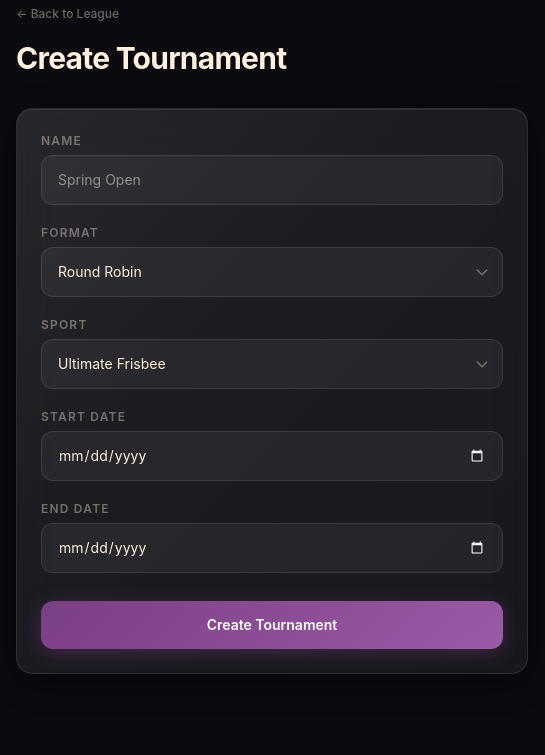
Test: CreateTournamentPage › shows error message on failure
Type "Bad" into the field labelled "Name".
click(272, 180); type("Bad")  # box left=41, top=155, right=503, bottom=205
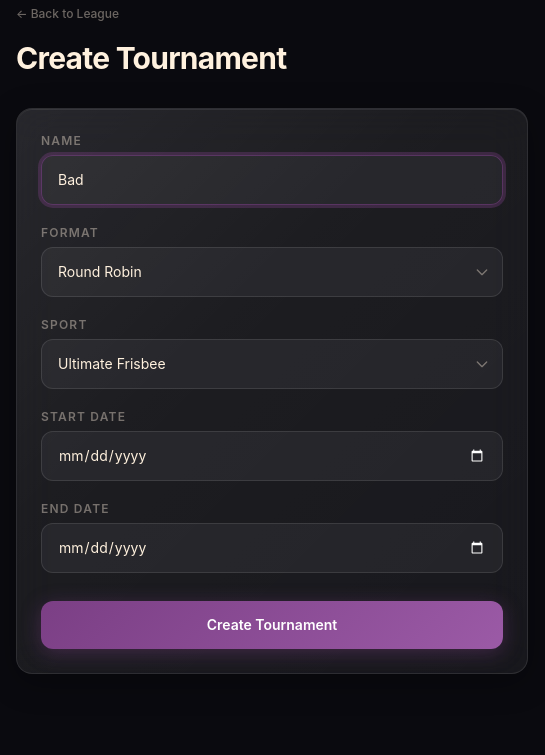
Select "Round Robin" in the dropdown labelled "Format" at [272, 272], box left=41, top=247, right=503, bottom=297
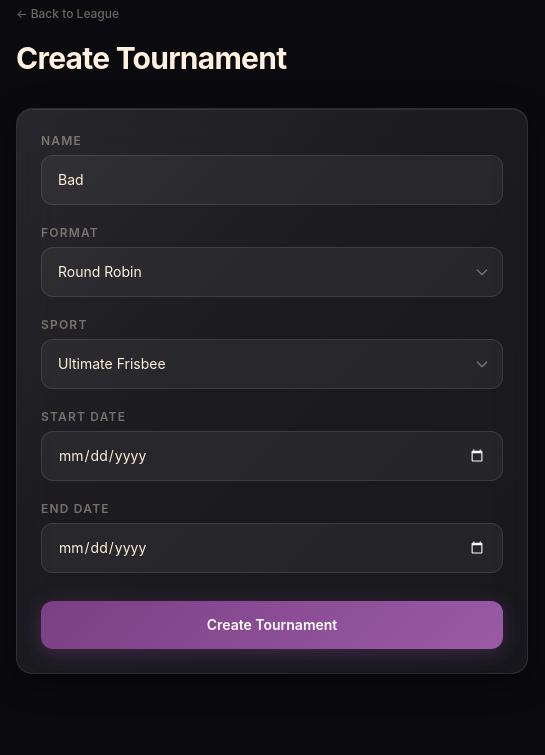
Select "Ultimate Frisbee" in the dropdown labelled "Sport" at [272, 364], box left=41, top=339, right=503, bottom=389
Type "2026-06-01" into the date field labelled "Start Date".
click(272, 456); type("2026-06-01")  # box left=41, top=431, right=503, bottom=481
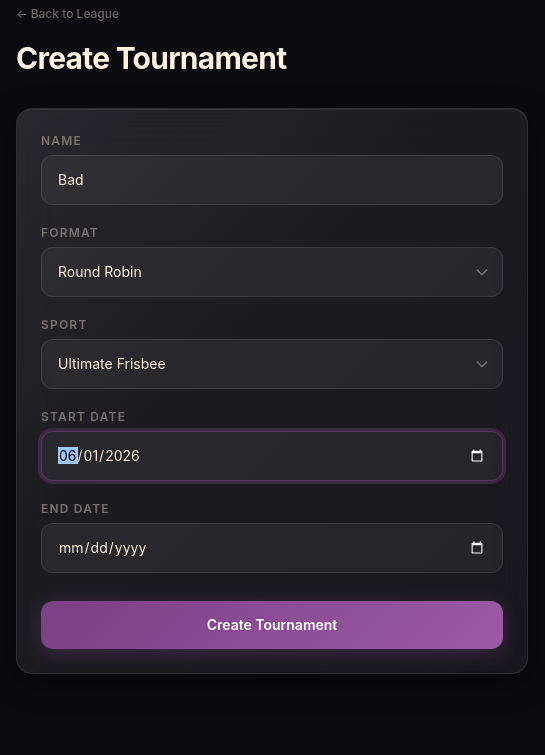
Type "2026-06-02" into the date field labelled "End Date".
click(272, 548); type("2026-06-02")  # box left=41, top=523, right=503, bottom=573
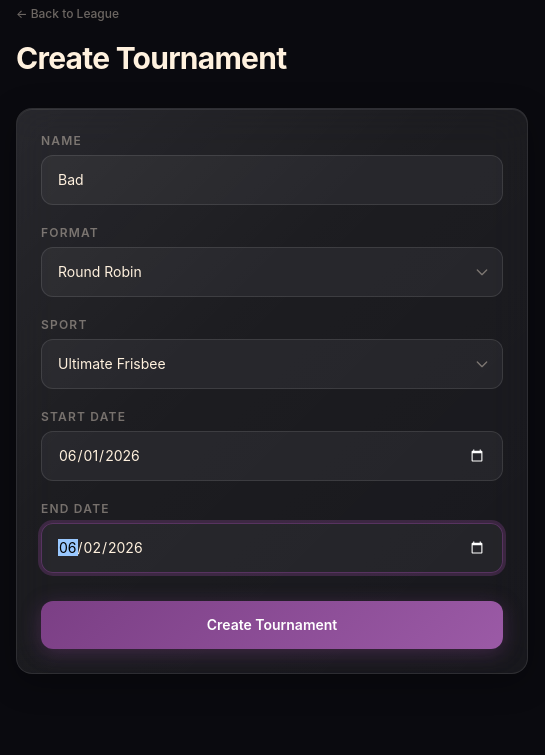
Click the button "Create Tournament".
click(272, 625)  # box left=41, top=601, right=503, bottom=649
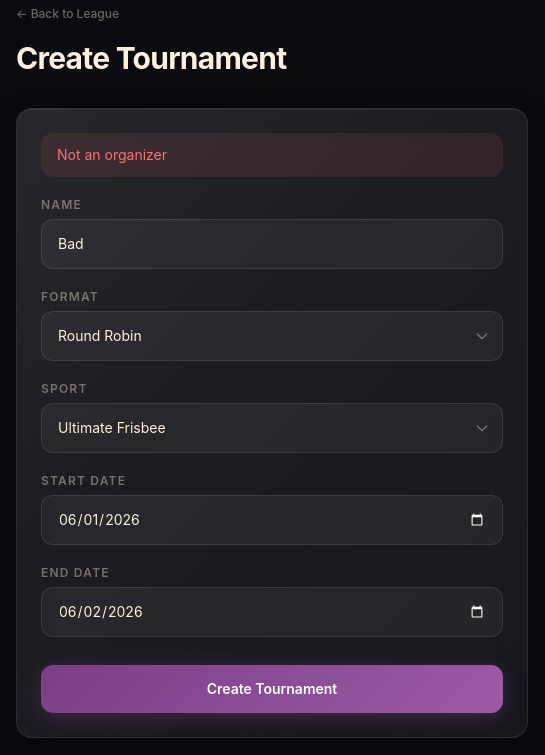
Expected: the text "Not an organizer" is shown, left=41, top=133, right=503, bottom=177
